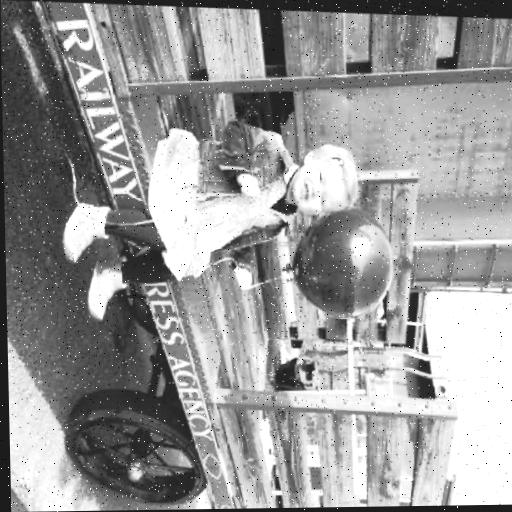balloon: (286, 198, 401, 323)
